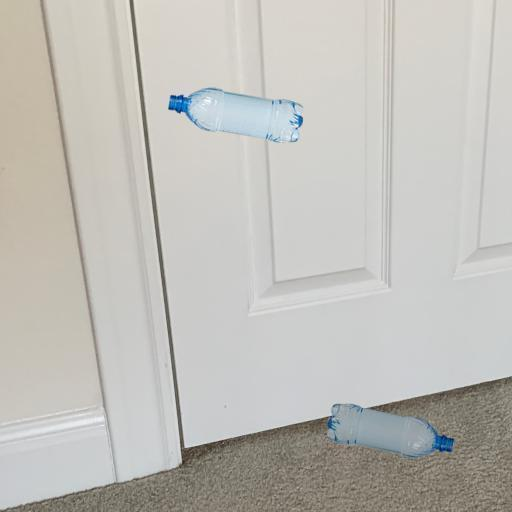bottle: (310, 380, 460, 470), (165, 64, 306, 142)
